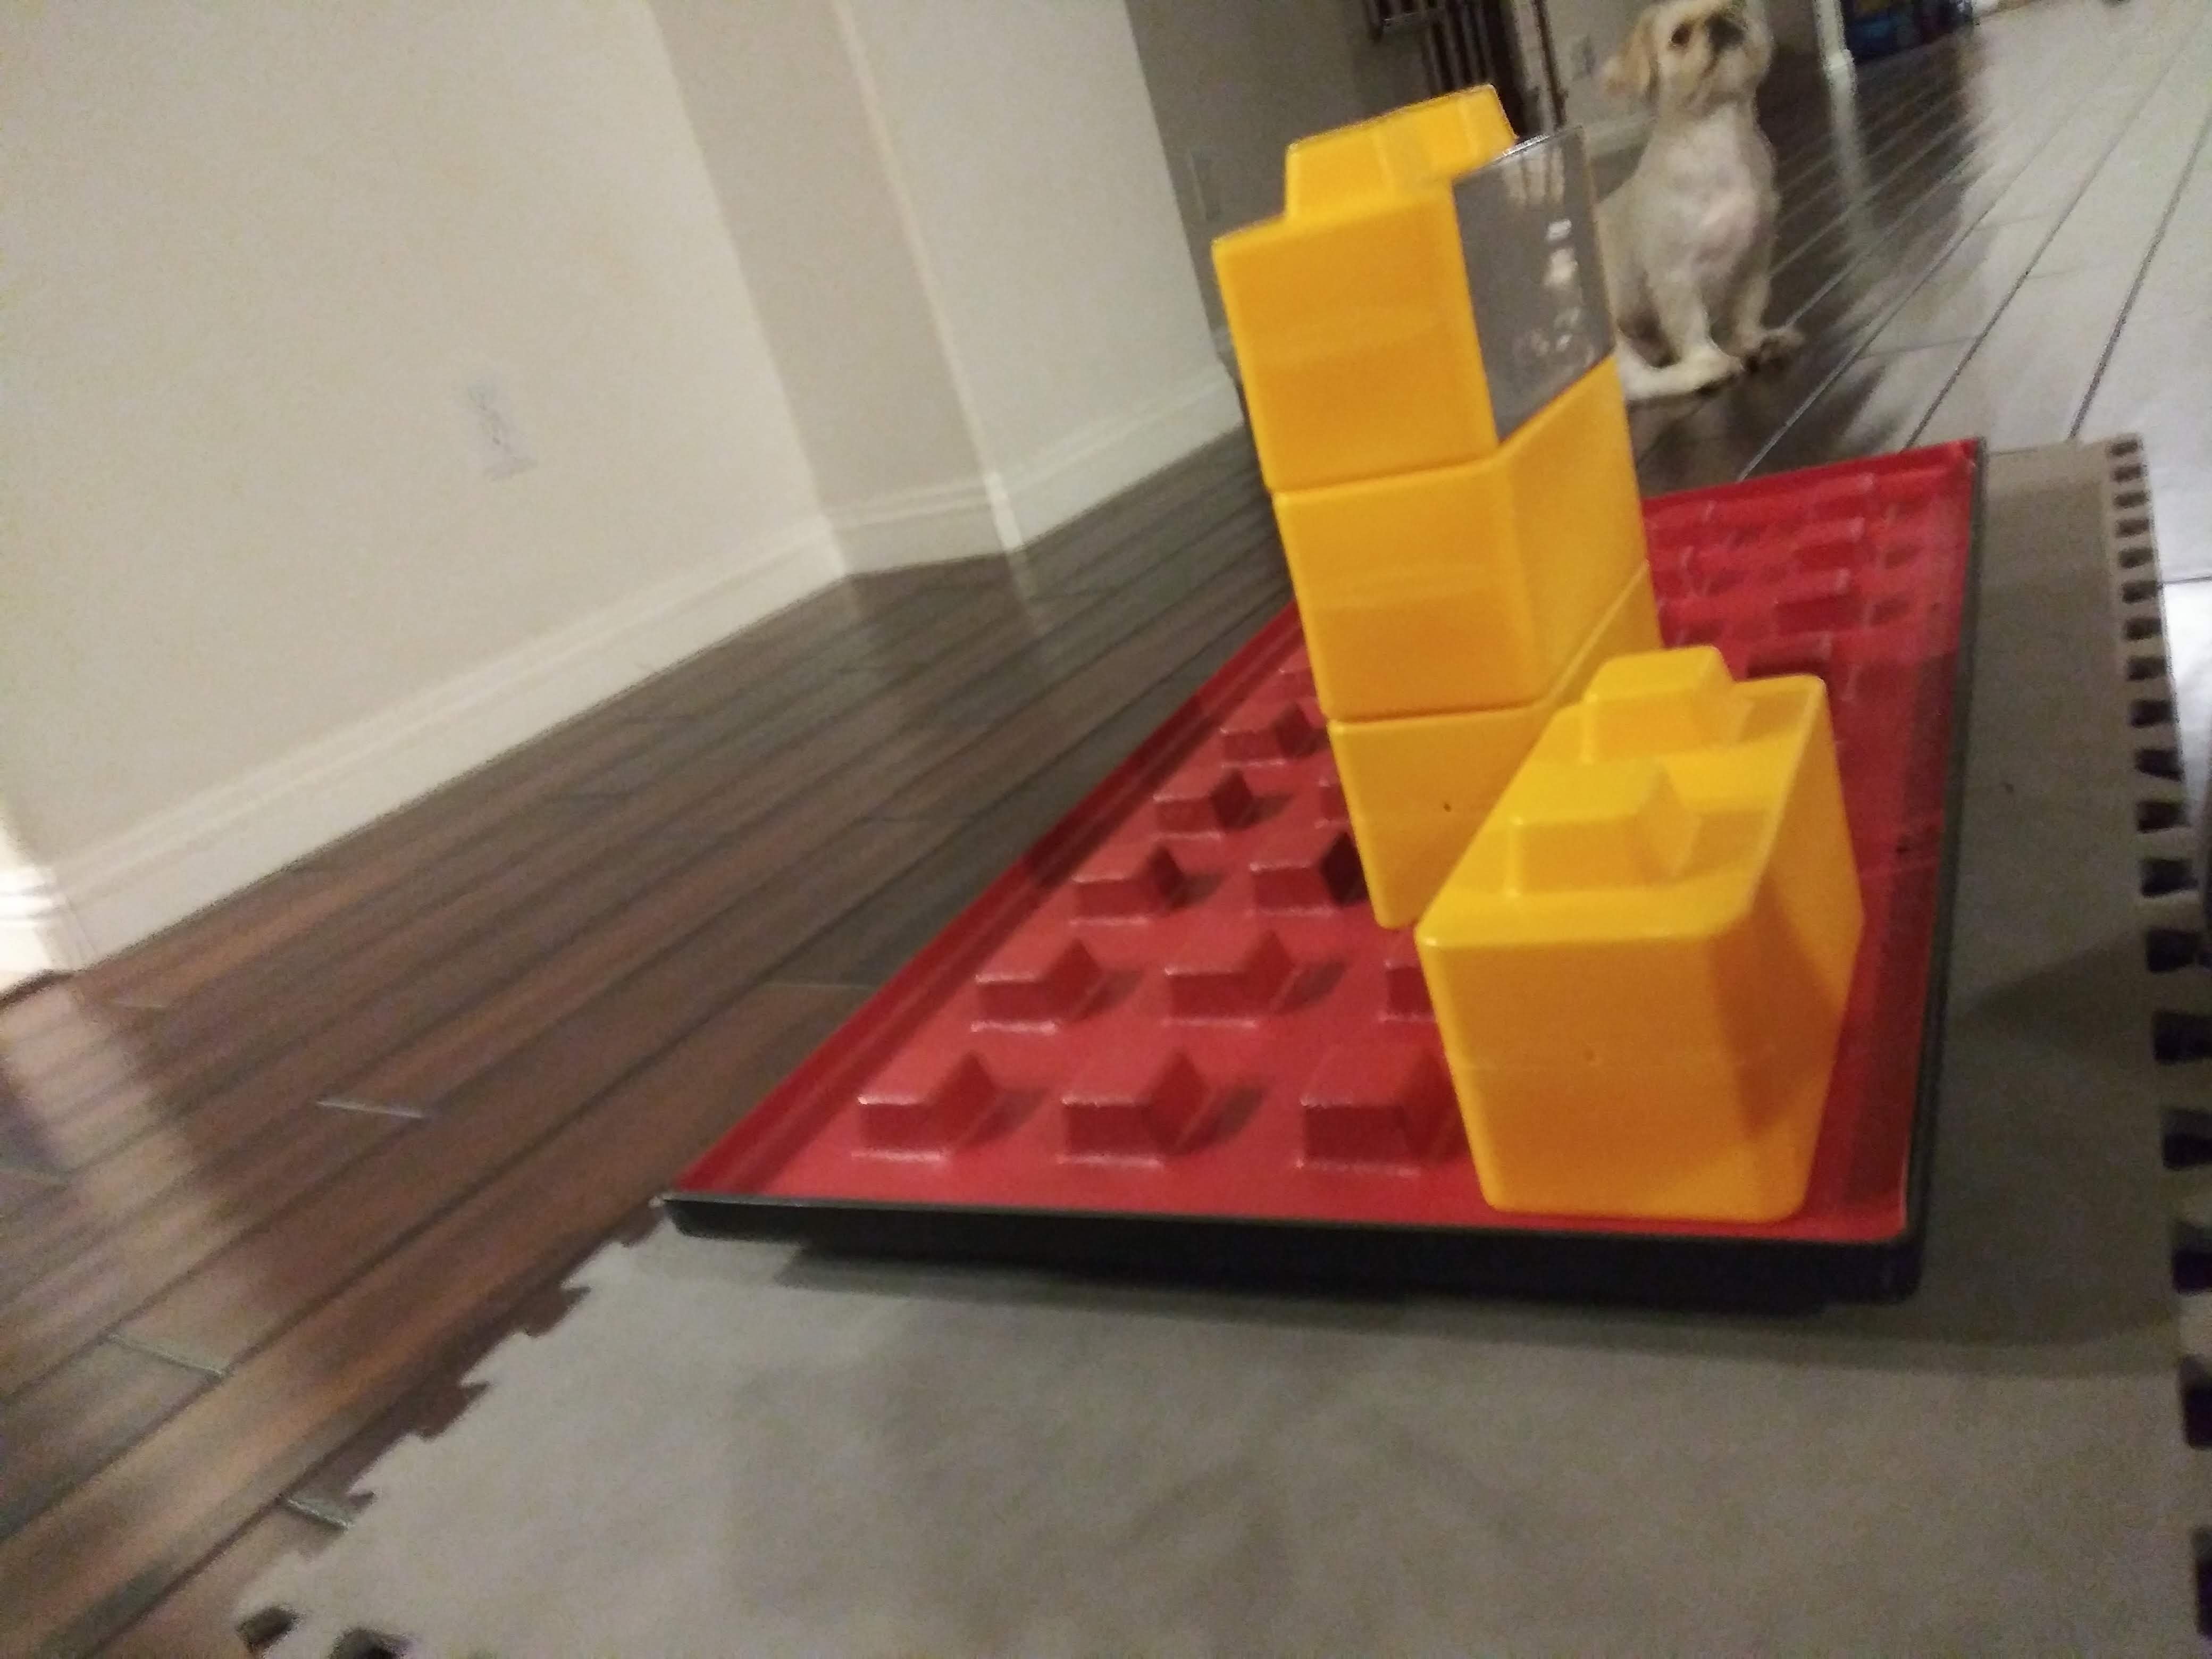red foundation: (758, 458, 2012, 1262)
